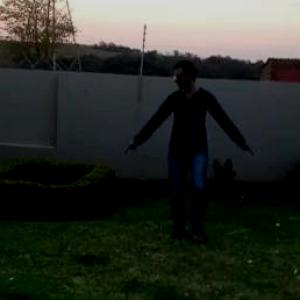land: (126, 62, 264, 257)
